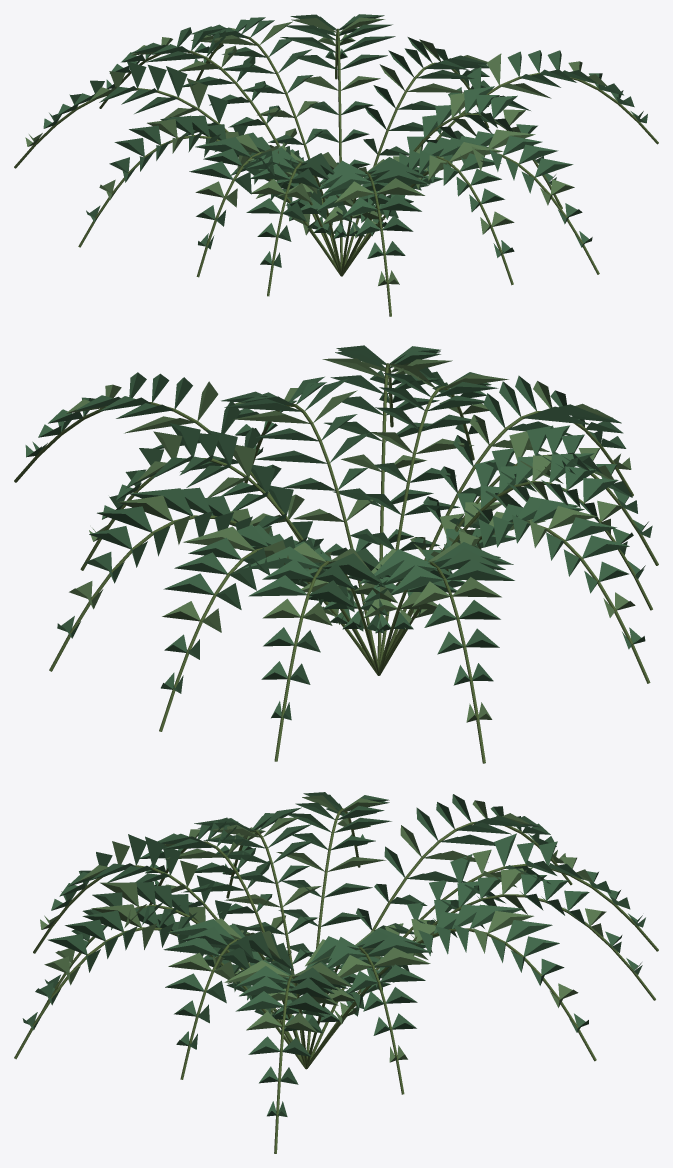
The model's file is fern.glb.
3 renders of one model, top to bottom at view 1: azimuth 30°, elevation 25°; view 2: azimuth 150°, elevation 25°; view 3: azimuth 270°, elevation 25°, orthographic. The views are drawn at different scales.
Parts seen in each view (by area): view 1: fern; view 2: fern; view 3: fern.
Boxes of the visible parts, x1,y1,x2,y2 form: fern: (14, 14, 658, 316); fern: (14, 345, 658, 763); fern: (14, 792, 658, 1153).
Size of the model in its own units: 1.42 by 0.4406 by 1.34.
